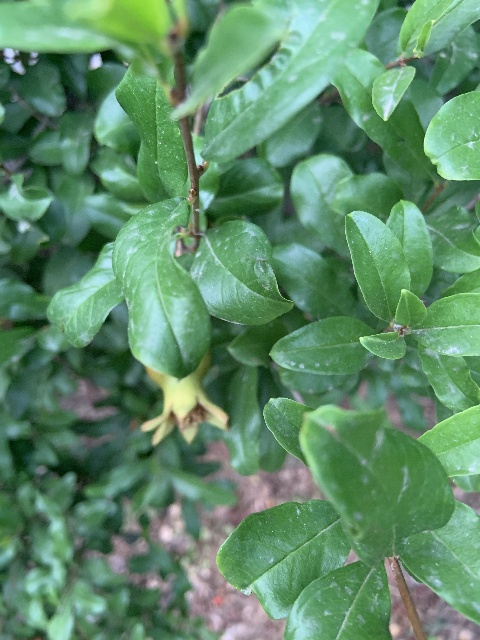early-fruit: (139, 351, 230, 446)
